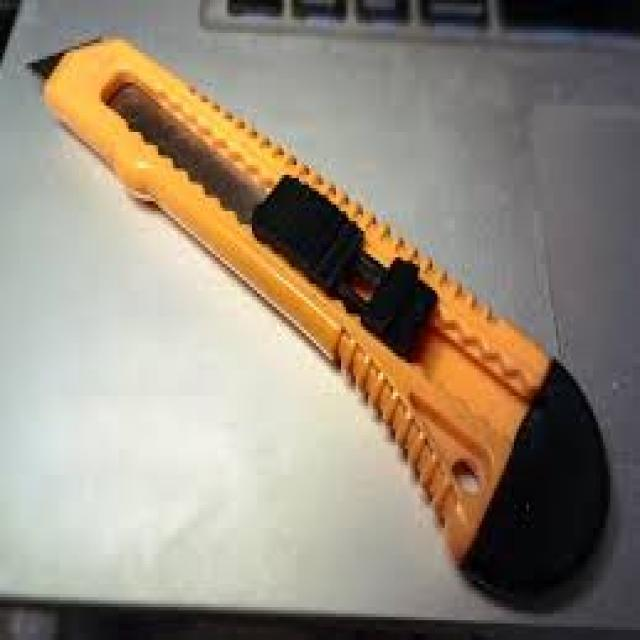cutter: (21, 30, 621, 618)
